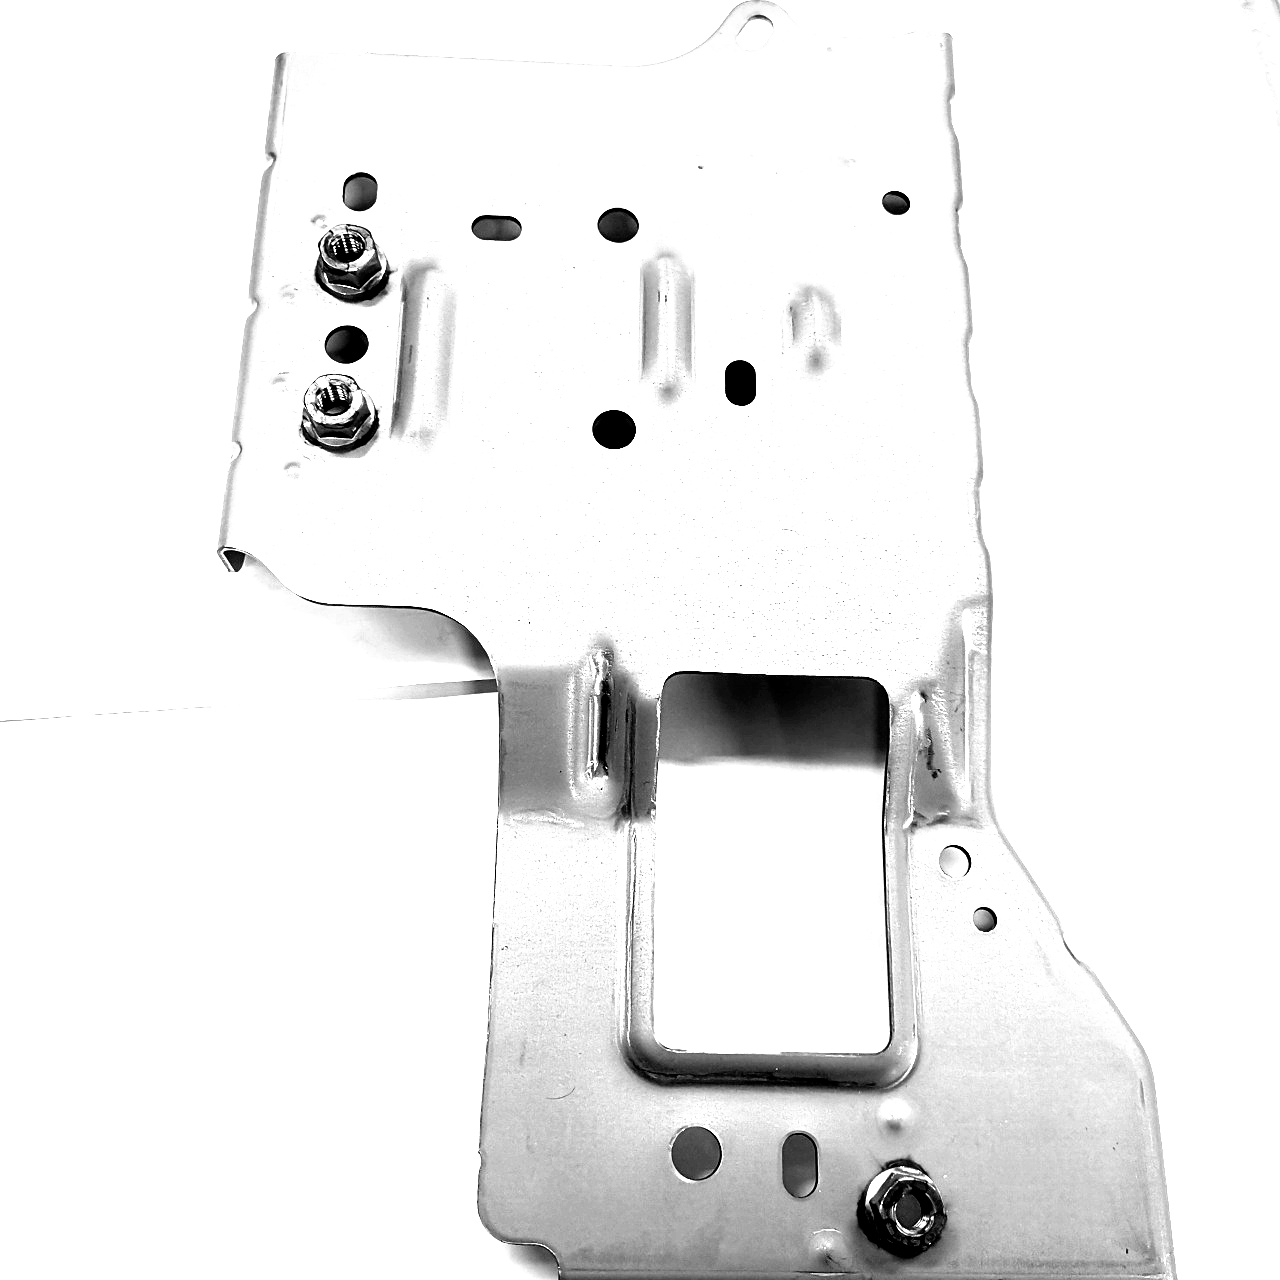dog: (855, 1158, 952, 1260), (309, 220, 396, 308), (297, 370, 380, 456)
